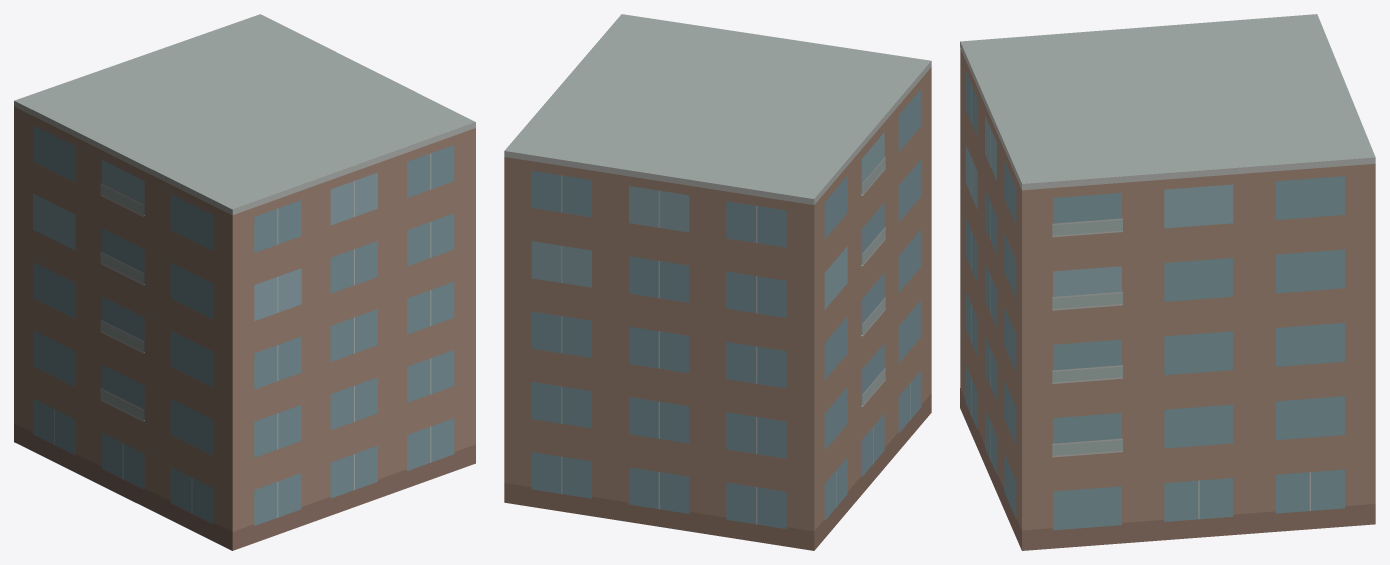
Rendered from survey-upis-32738033.glb.
3 renders of one model, left to right at view 1: azimuth 30°, elevation 25°; view 2: azimuth 150°, elevation 25°; view 3: azimuth 270°, elevation 25°, orthographic. The views are drawn at different scales.
Parts seen in each view (by area): view 1: survey-upis-32738033.tmp; view 2: survey-upis-32738033.tmp; view 3: survey-upis-32738033.tmp.
Part boxes in pixels (left/top/right/bottom): survey-upis-32738033.tmp: left=14, top=14, right=475, bottom=550; survey-upis-32738033.tmp: left=504, top=14, right=931, bottom=550; survey-upis-32738033.tmp: left=960, top=14, right=1375, bottom=550.
Size of the model in its own units: 14.23 by 14.3 by 14.69.
